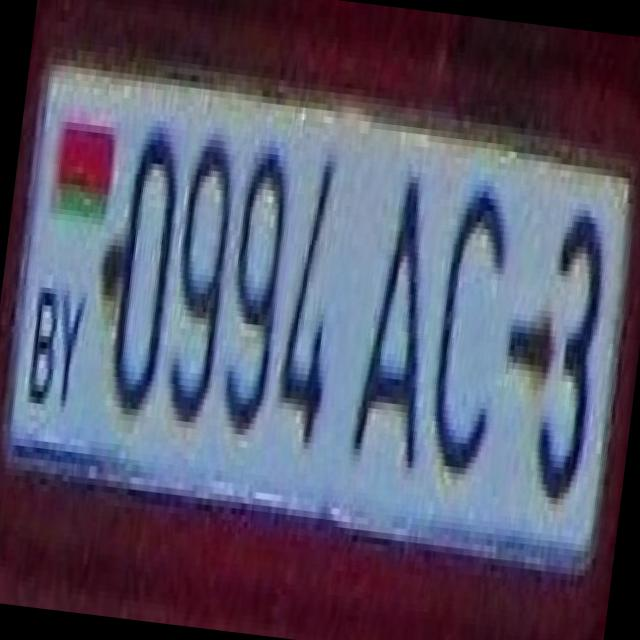0: (94, 99, 190, 418)
3: (520, 188, 618, 501)
4: (265, 120, 360, 450)
9: (152, 105, 245, 424), (209, 118, 299, 436)
A: (336, 147, 454, 474)
C: (406, 155, 524, 482)
